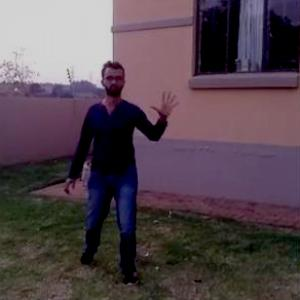follow_hand: (149, 86, 185, 120)
